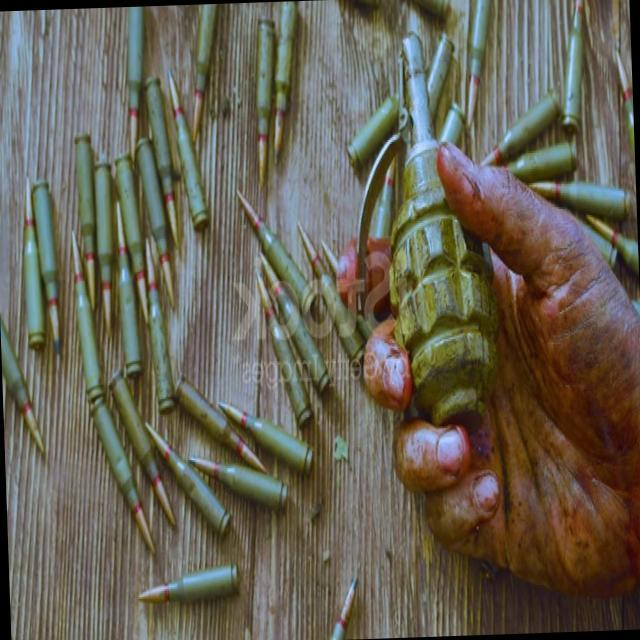grenade: (385, 22, 504, 424)
